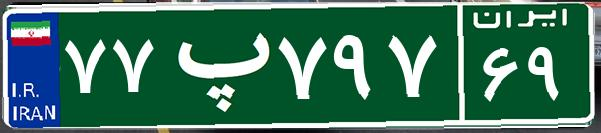6: (475, 38, 525, 113)
7: (385, 28, 445, 110), (273, 28, 330, 110), (57, 26, 110, 107), (110, 28, 158, 105)
9: (330, 28, 385, 110), (525, 38, 570, 115)
پ: (158, 15, 273, 115)
